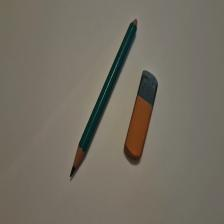eraser: (125, 71, 159, 161)
pencil: (71, 19, 138, 178)
